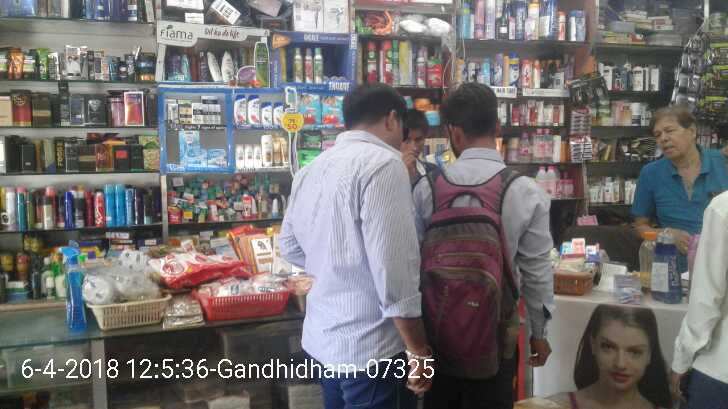venus: (186, 149, 206, 167), (179, 132, 198, 149), (209, 150, 222, 164)
